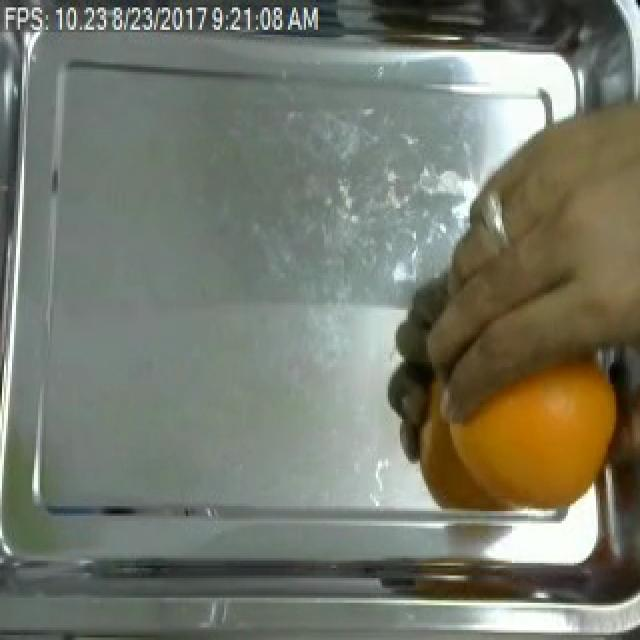Fruit: (462, 84, 640, 365), (452, 345, 630, 518)
